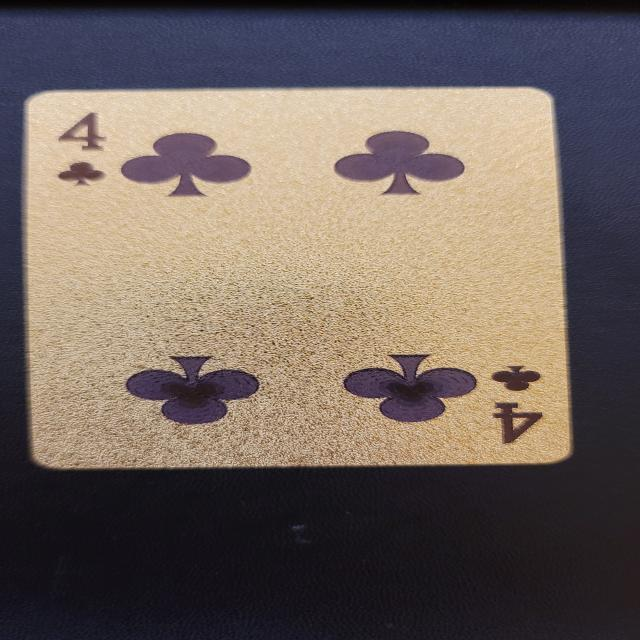4 of clubs: (22, 86, 574, 470)
